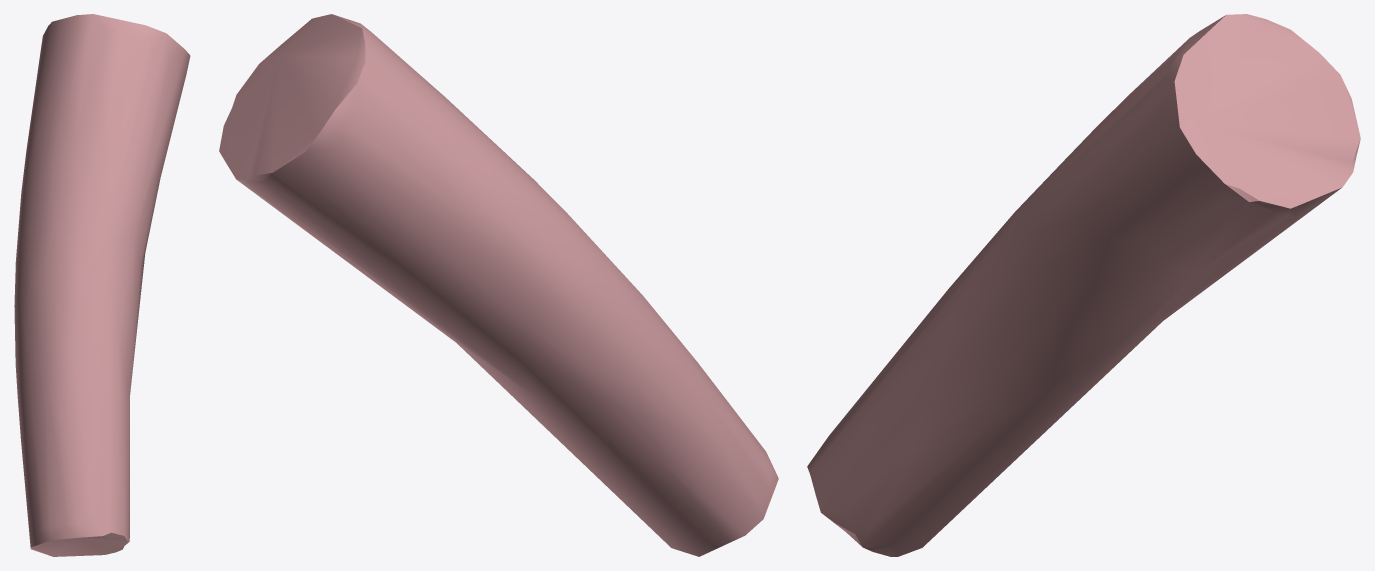
File: fma68212_fj6544.glb
3 views of the same model, side by side, from view 1: azimuth 30°, elevation 25°; view 2: azimuth 150°, elevation 25°; view 3: azimuth 270°, elevation 25° (orthographic). The views are drawn at different scales.
Visible parts, largest first — view 1: FMA68212_FJ6544; view 2: FMA68212_FJ6544; view 3: FMA68212_FJ6544.
Boxes of the visible parts, left/top/right/bottom form: FMA68212_FJ6544: left=14, top=14, right=190, bottom=556; FMA68212_FJ6544: left=219, top=14, right=778, bottom=556; FMA68212_FJ6544: left=807, top=14, right=1360, bottom=556.
Bounding box in the file's own units: 0.00627 × 0.00948 × 0.00769.
